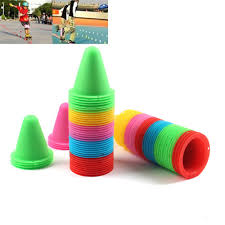cones: (66, 47, 117, 99), (20, 115, 52, 168)
